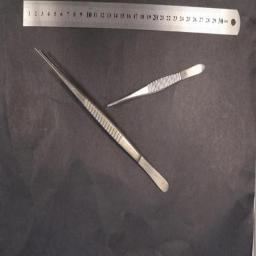DeBakey Dissector: (34, 46, 170, 194)
Gillies Toothed Dissector: (106, 64, 206, 108)
